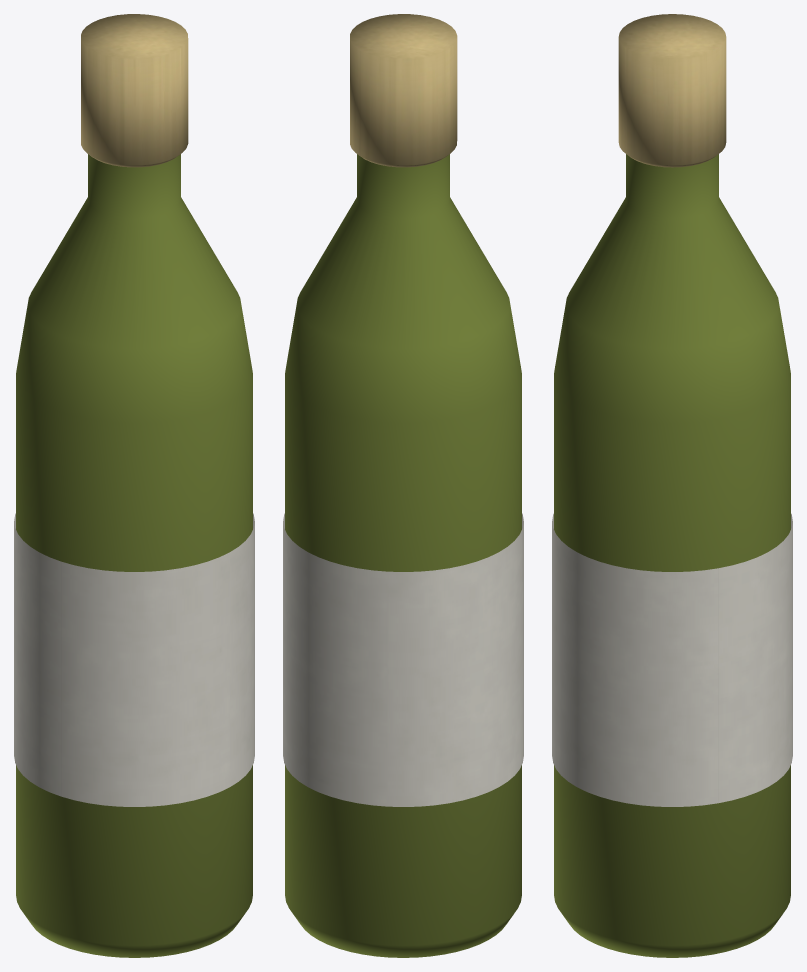
File: wine-white.glb
The picture shows the model from 3 angles, left to right: view 1: azimuth 30°, elevation 25°; view 2: azimuth 150°, elevation 25°; view 3: azimuth 270°, elevation 25°; orthographic projection.
Visible parts, largest first — view 1: bottle_glass, label_paper, foil; view 2: bottle_glass, label_paper, foil; view 3: bottle_glass, label_paper, foil.
Part boxes in pixels (x1,y1,x2,y2): bottle_glass: (16, 154, 252, 957); label_paper: (14, 513, 254, 806); foil: (81, 14, 188, 167); bottle_glass: (285, 154, 521, 957); label_paper: (283, 513, 523, 806); foil: (350, 14, 457, 167); bottle_glass: (554, 154, 790, 957); label_paper: (552, 513, 792, 806); foil: (618, 14, 726, 167).
Size of the model in its own units: 0.0752 by 0.302 by 0.0752.
Materials: 3 (2 with a texture image).
